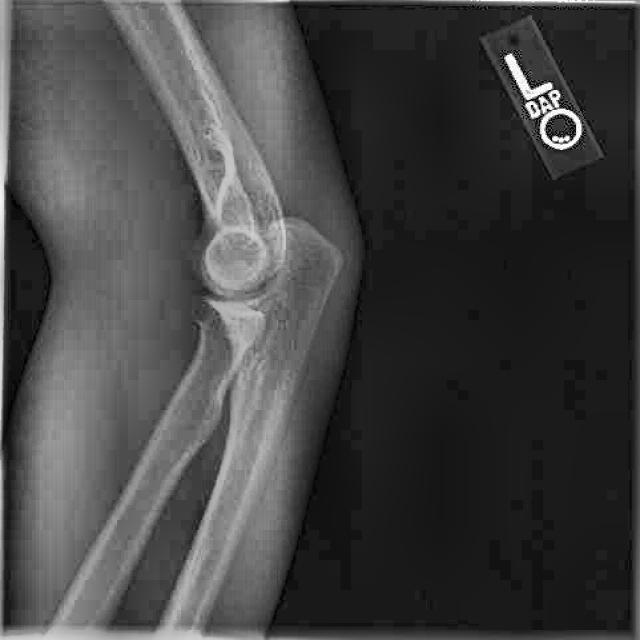humerus: (131, 302, 281, 481)
